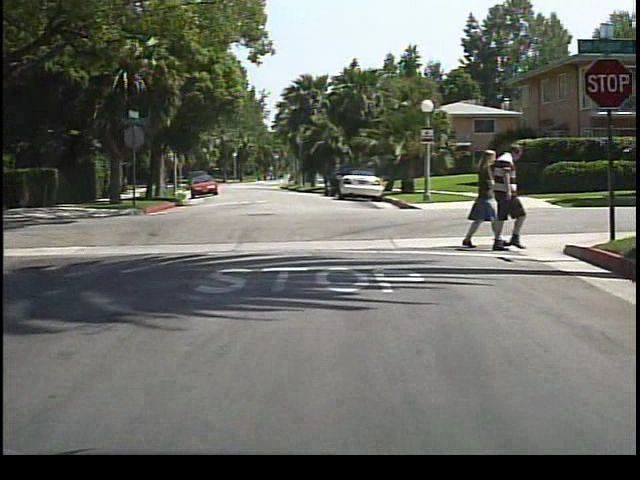person: (484, 144, 532, 255), (467, 149, 497, 248)
